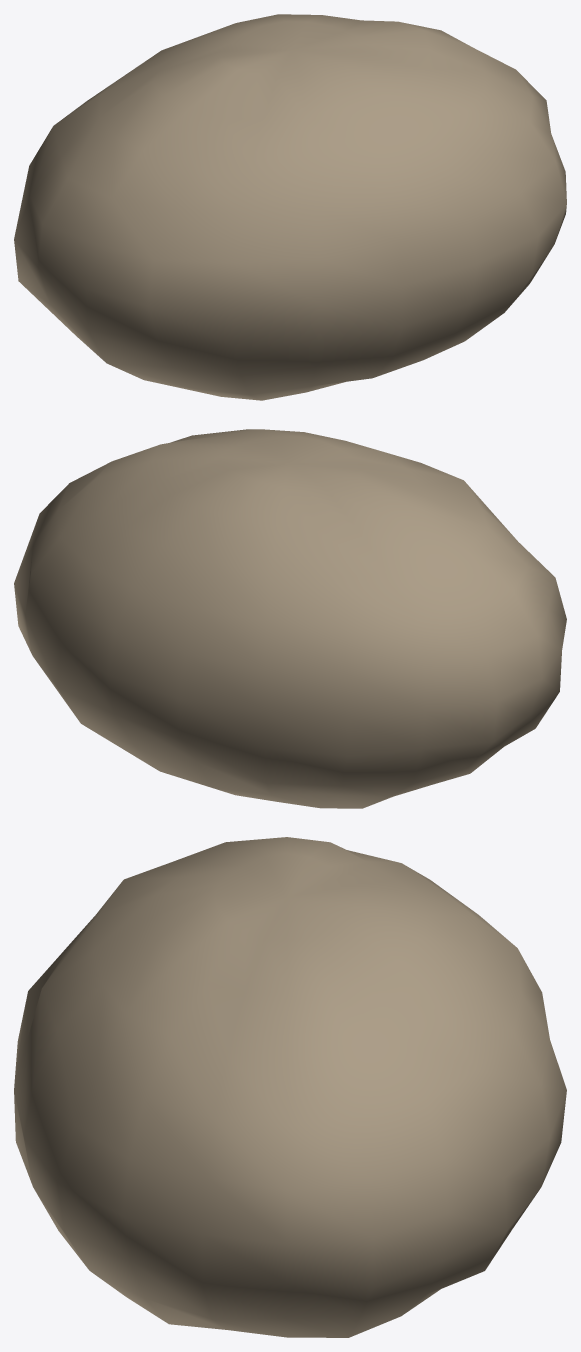
Rendered from hero-pebble-0.glb.
3 views of the same model, one above another, from view 1: azimuth 30°, elevation 25°; view 2: azimuth 150°, elevation 25°; view 3: azimuth 270°, elevation 25° (orthographic). The views are drawn at different scales.
Parts seen in each view (by area): view 1: Water worn river pebble; view 2: Water worn river pebble; view 3: Water worn river pebble.
Boxes of the visible parts, left/top/right/bottom form: Water worn river pebble: left=14, top=14, right=566, bottom=400; Water worn river pebble: left=14, top=429, right=566, bottom=808; Water worn river pebble: left=14, top=837, right=566, bottom=1337.
Bounding box in the file's own units: 0.012 × 0.00727 × 0.00912.
